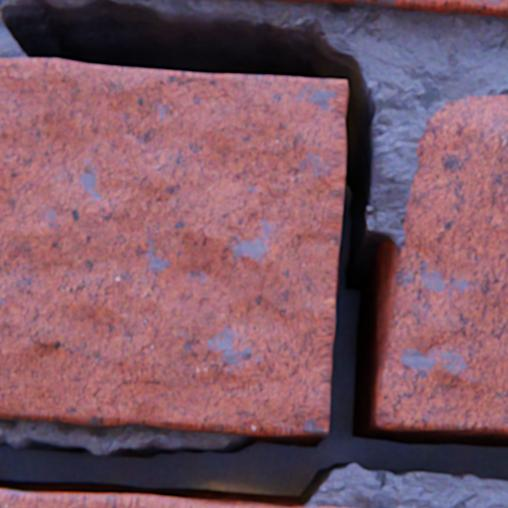brick: (0, 59, 347, 434), (376, 96, 507, 434), (0, 488, 356, 507), (263, 0, 507, 18)
crack: (0, 0, 507, 506)
